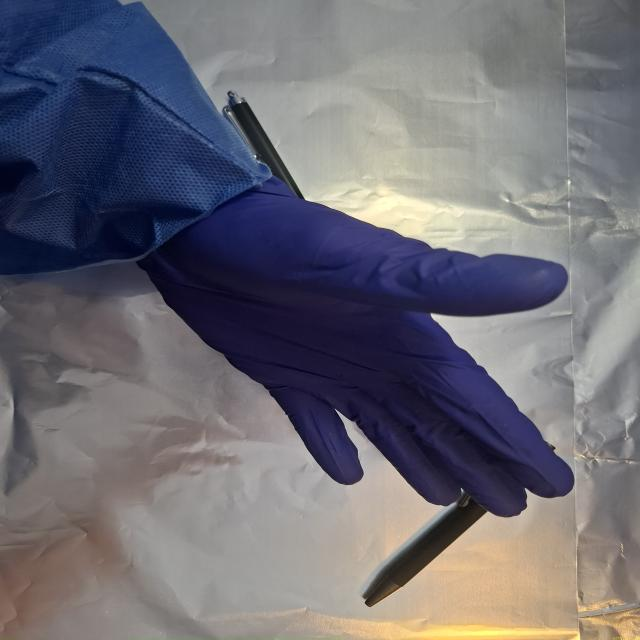glove_on: (130, 176, 578, 520)
